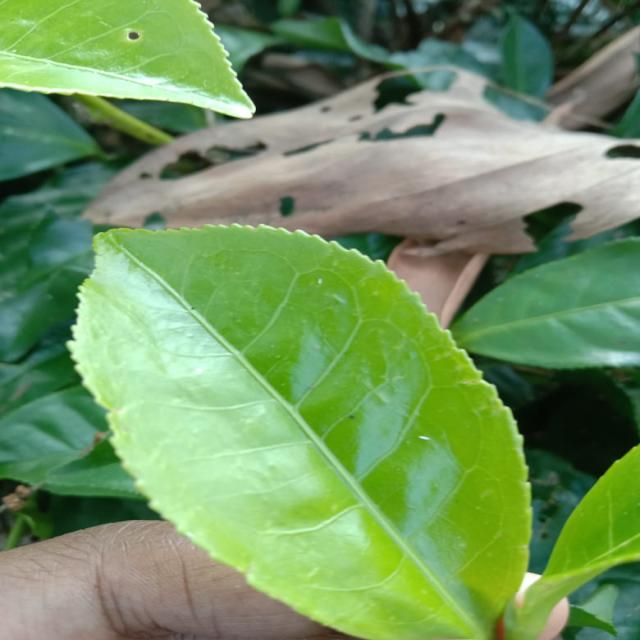Category B 2-4 days: (66, 210, 578, 639)
